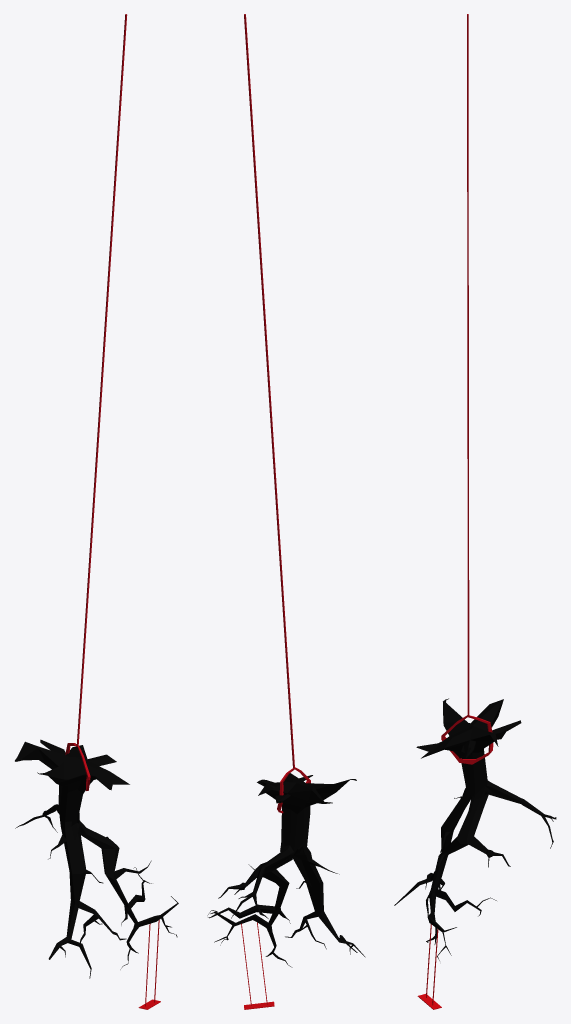
Rendered from blommetrae_black_ani.glb.
The picture shows the model from 3 angles, left to right: view 1: azimuth 30°, elevation 25°; view 2: azimuth 150°, elevation 25°; view 3: azimuth 270°, elevation 25°; orthographic projection. The views are drawn at different scales.
Parts seen in each view (by area): view 1: Cube.004, long string.001, Cube.003; view 2: Cube.004, long string.001, Cube.003; view 3: Cube.004, long string.001, Cube.003.
Boxes of the visible parts, left/top/right/bottom form: Cube.004: left=15, top=739, right=178, bottom=978; long string.001: left=65, top=14, right=127, bottom=790; Cube.003: left=138, top=920, right=160, bottom=1009; Cube.004: left=207, top=773, right=365, bottom=967; long string.001: left=244, top=14, right=310, bottom=813; Cube.003: left=241, top=922, right=274, bottom=1009; Cube.004: left=394, top=698, right=556, bottom=960; long string.001: left=441, top=14, right=493, bottom=764; Cube.003: left=417, top=924, right=441, bottom=1009.
Bounding box in the file's own units: 6.56 × 44.07 × 6.56.
